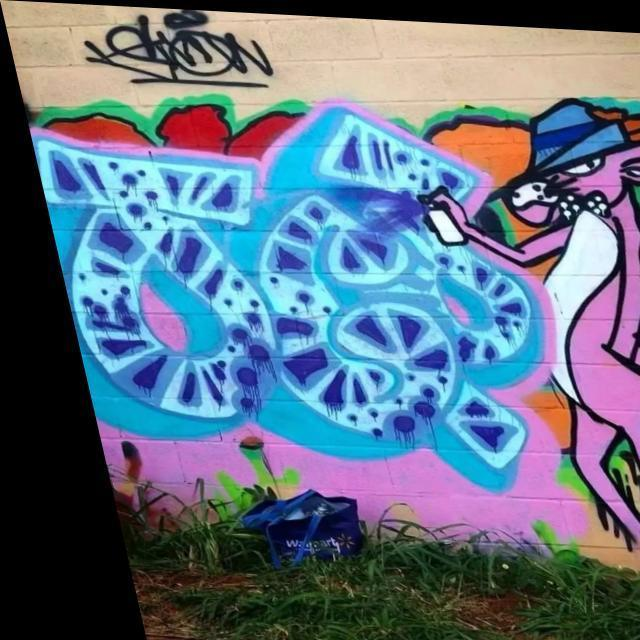-: (12, 67, 558, 524), (436, 85, 640, 601), (40, 2, 288, 92)
